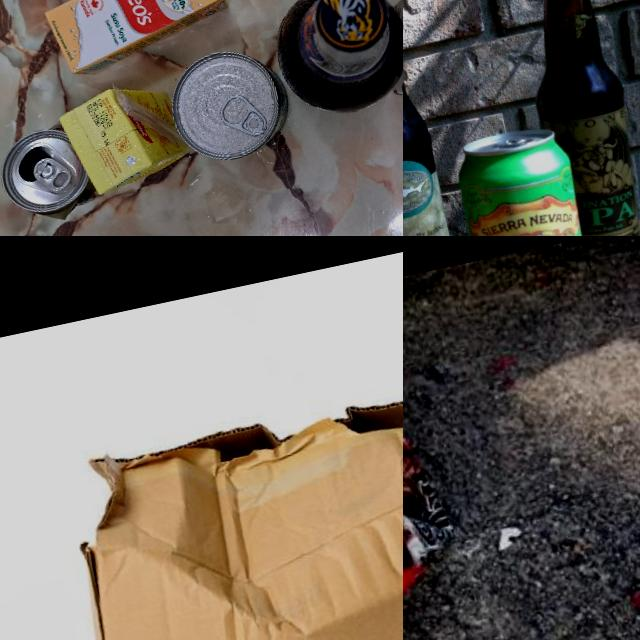aba de lata: (216, 90, 268, 142), (32, 153, 74, 195), (493, 136, 526, 150)
caixinha: (55, 74, 196, 200), (36, 0, 234, 78)
garrafa de vidro: (498, 0, 640, 236), (263, 0, 403, 125), (403, 0, 466, 236)
lata: (447, 119, 609, 236), (162, 39, 298, 170), (403, 410, 479, 640), (0, 120, 98, 229)
papelão: (54, 368, 403, 640)
